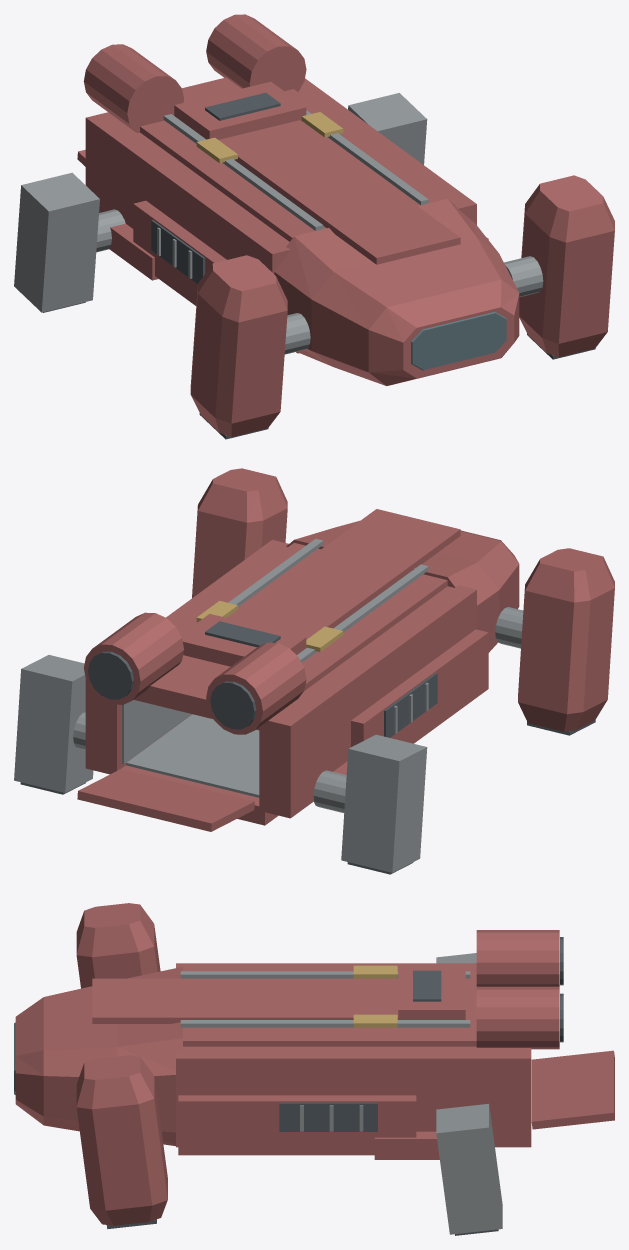
Rendered from shipit_red_cargo_open.glb.
3 views of the same model, one above another, from view 1: azimuth 30°, elevation 25°; view 2: azimuth 150°, elevation 25°; view 3: azimuth 270°, elevation 25° (orthographic). The views are drawn at different scales.
Visible parts, largest first — view 1: body_0, engine_L_pivot_housing, engine_R_pivot_housing, rear_L_pivot_housing, body_1, body_2, rear_R_pivot_housing, body_4, body_3; view 2: body_0, engine_L_pivot_housing, body_1, rear_L_pivot_housing, rear_R_pivot_housing, engine_R_pivot_housing, body_4, cargo_ramp_panel, body_3; view 3: body_0, engine_R_pivot_housing, rear_R_pivot_housing, cargo_ramp_panel, engine_L_pivot_housing, body_4, body_1, body_3.
Boxes of the visible parts, x1,y1,x2,y2 form: body_0: [83, 14, 519, 385]; engine_L_pivot_housing: [190, 255, 287, 437]; engine_R_pivot_housing: [519, 175, 614, 357]; rear_L_pivot_housing: [14, 172, 99, 312]; body_1: [96, 110, 543, 354]; body_2: [411, 312, 506, 370]; rear_R_pivot_housing: [348, 93, 427, 164]; body_4: [151, 92, 280, 283]; body_3: [196, 112, 343, 163]; body_0: [84, 509, 519, 825]; engine_L_pivot_housing: [518, 548, 614, 731]; body_1: [73, 538, 523, 812]; rear_L_pivot_housing: [341, 734, 427, 872]; rear_R_pivot_housing: [14, 655, 93, 792]; engine_R_pivot_housing: [192, 468, 287, 597]; body_4: [88, 621, 437, 737]; cargo_ramp_panel: [77, 769, 254, 831]; body_3: [196, 601, 343, 651]; body_0: [15, 930, 559, 1159]; engine_R_pivot_housing: [76, 1055, 167, 1225]; rear_R_pivot_housing: [436, 1103, 502, 1234]; cargo_ramp_panel: [531, 1050, 614, 1129]; engine_L_pivot_housing: [76, 903, 160, 988]; body_4: [279, 937, 563, 1131]; body_1: [180, 971, 470, 1131]; body_3: [353, 965, 397, 1027].
Size of the model in its own units: 2.76 by 1.33 by 3.84.
